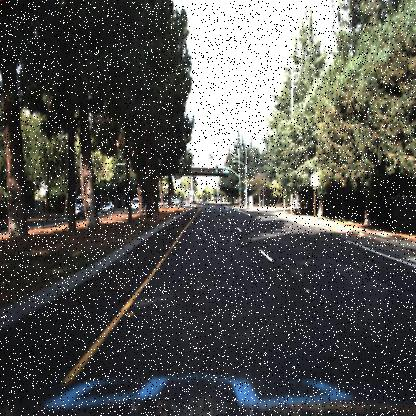car: (69, 193, 92, 225), (100, 200, 118, 218)
